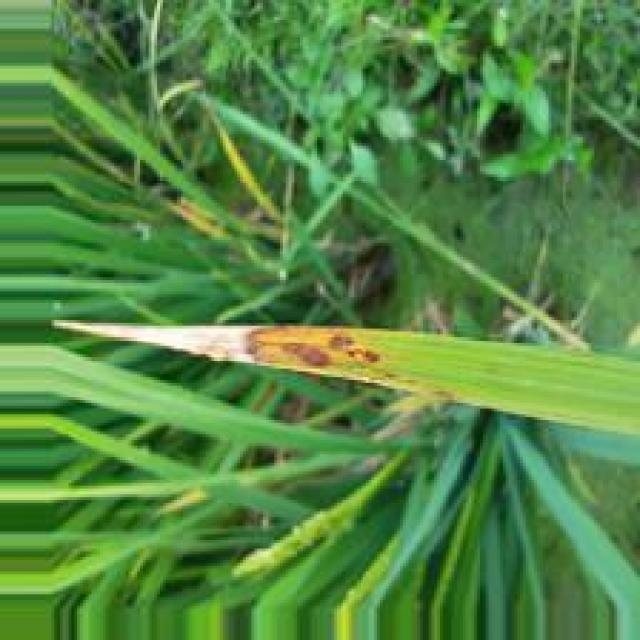Leaf_Scald: (129, 326, 293, 363), (323, 329, 385, 367), (274, 341, 341, 368)
